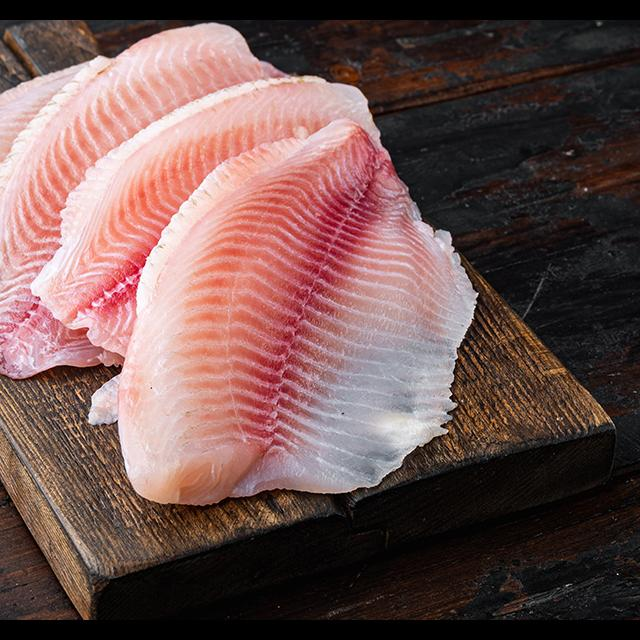fish: (116, 114, 484, 523)
